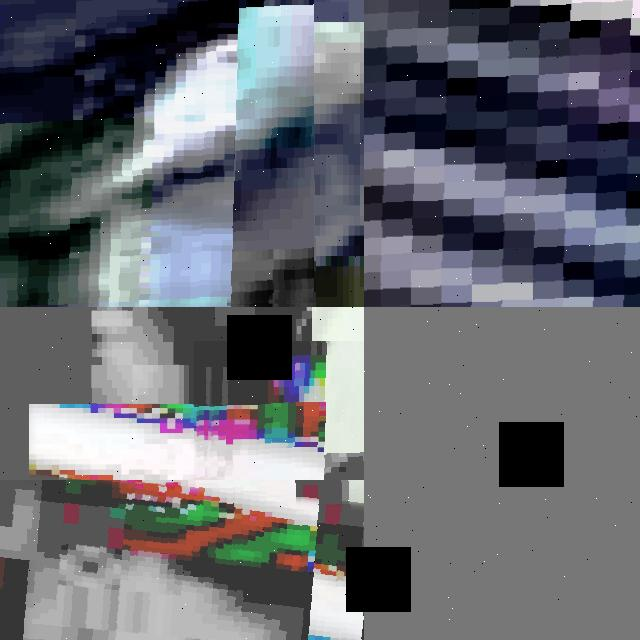arms: (0, 0, 314, 307), (364, 307, 640, 640), (364, 0, 640, 307), (0, 480, 364, 640), (194, 341, 364, 640)
